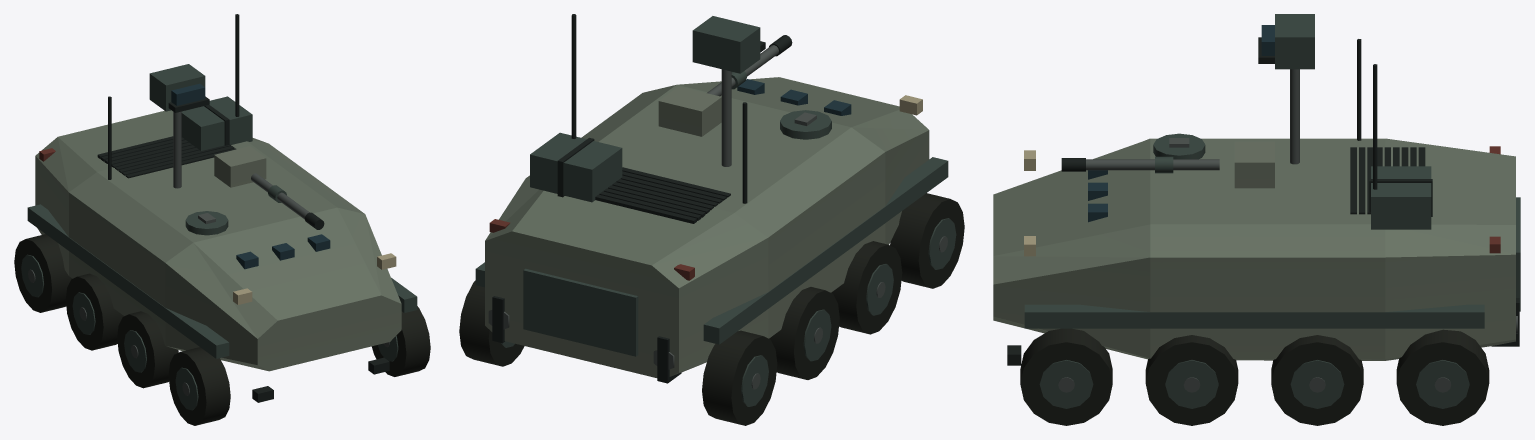
Rendered from reconVehicle-lod.glb.
3 views of the same model, side by side, from view 1: azimuth 30°, elevation 25°; view 2: azimuth 150°, elevation 25°; view 3: azimuth 270°, elevation 25° (orthographic). The views are drawn at different scales.
Visible parts, largest first — view 1: equipment (×3); view 2: equipment (×3); view 3: equipment (×3).
Part boxes in pixels (box(x1,y1,x2,y2)): equipment (×3): box(14, 14, 430, 425); equipment (×3): box(459, 14, 964, 425); equipment (×3): box(993, 14, 1520, 425).
Size of the model in its own units: 3.19 by 3.65 by 5.24.
